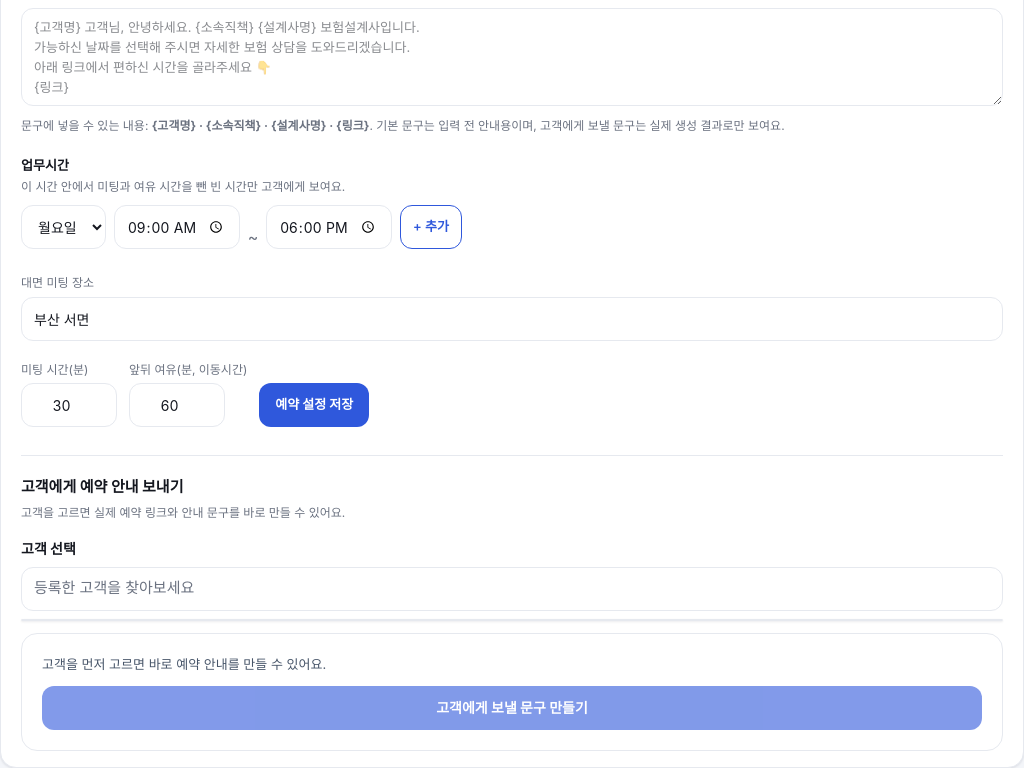
Test: 예약 설정 화면 › 동명이인은 마스킹한 연락처와 영업 단계로 선택 내용을 구분한다
(page scrolled)
Type "김" into the dropdown labelled "고객 선택" at (512, 588), box [21,566,1003,610]
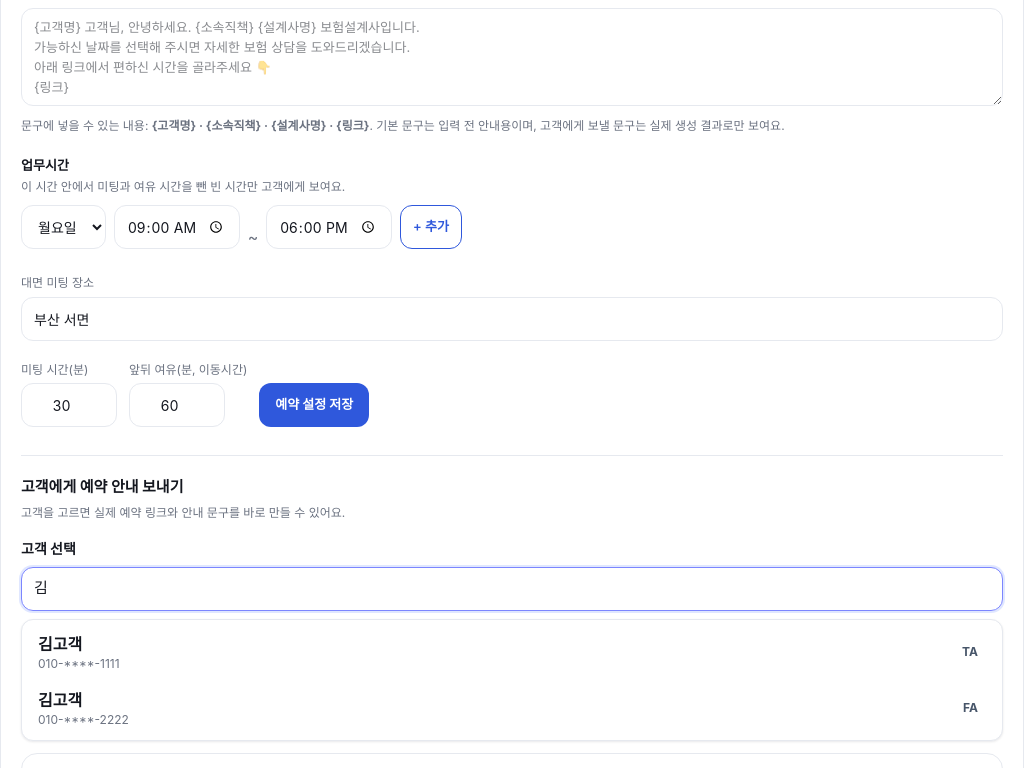
Click the option "김고객 010-****-2222 FA" at (60, 700), box [26,680,998,736]
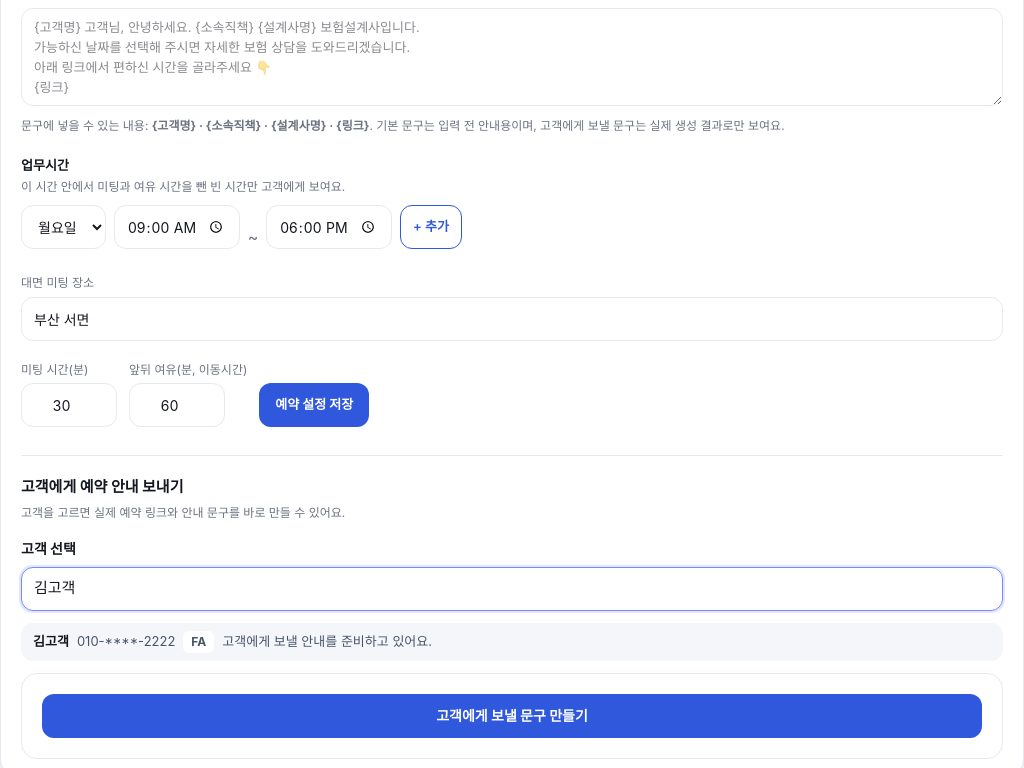
Expected: the text "FA" is shown, [183,630,214,652]
Expected: the text "010-****-2222" is shown, [77,632,175,651]
